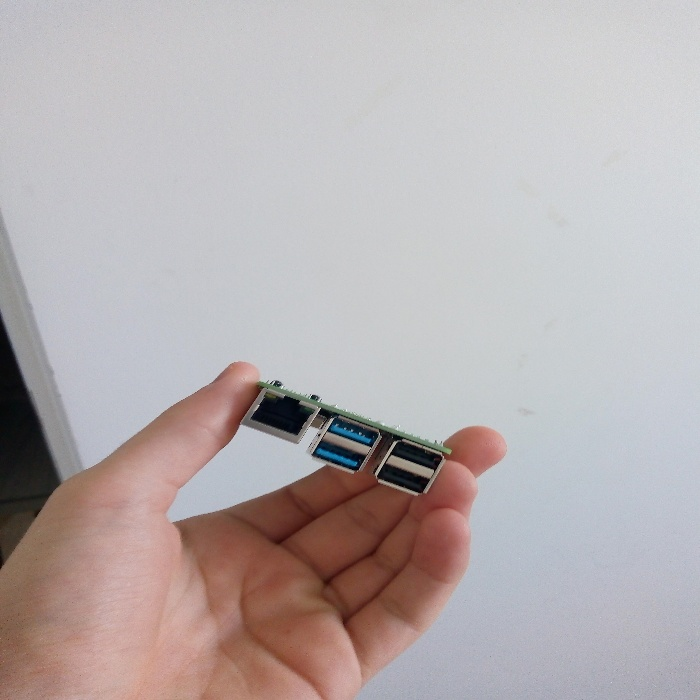raspberry: (234, 371, 451, 503)
